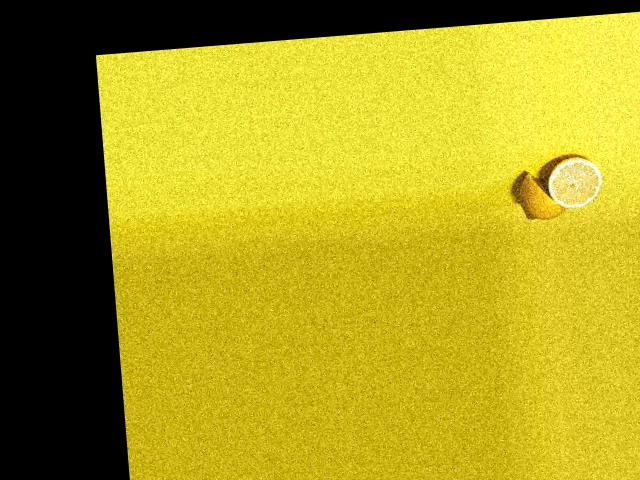lemon: (514, 163, 569, 222)
